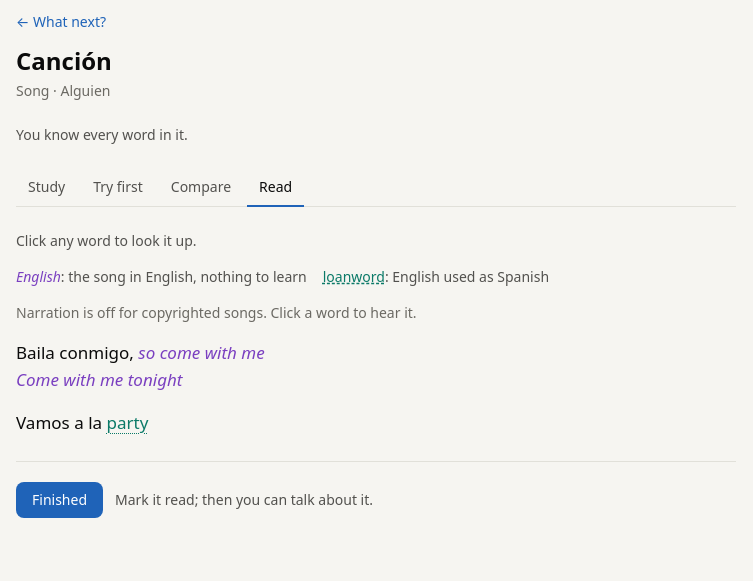
Scenario: English inside songs › never offers an all-English line to translate
What coordinates should you click on to do the following:
click the tab "Try first"
I would click on:
 (118, 188)
Its box is [81,169,155,207].
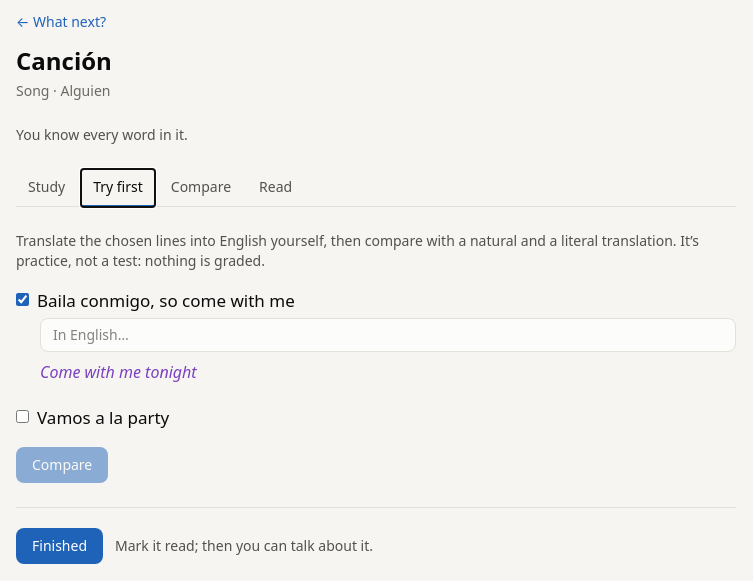
Result: the field named "Your translation of line 1" is shown at [40,318,736,352]
Result: the text titled "English: nothing to translate" reads "Come with me tonight" at [40,361,197,383]
